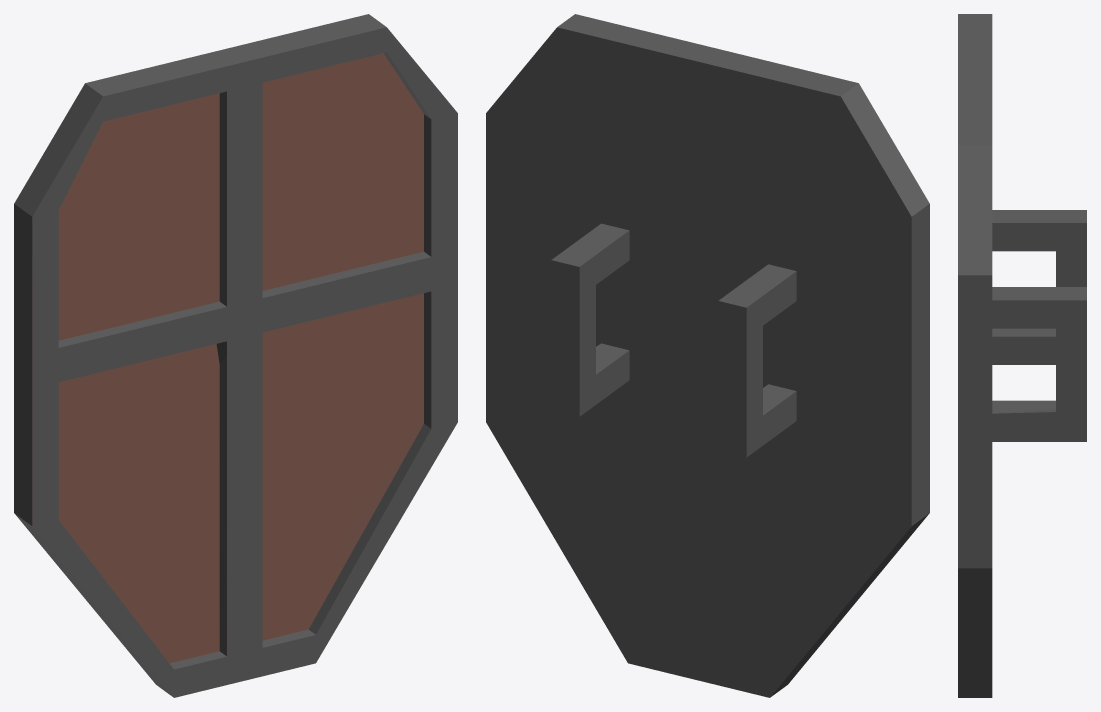
Rendered from MO_Shield.fbx.
3 renders of one model, left to right at view 1: azimuth 30°, elevation 25°; view 2: azimuth 150°, elevation 25°; view 3: azimuth 270°, elevation 25°, orthographic. The views are drawn at different scales.
Parts seen in each view (by area): view 1: Shield, Shield_cell.002, Shield_cell.003, Shield_cell, Shield_cell.001, Shield_cell.004; view 2: Shield, Shield_cell.004, Shield_cell.001, Shield_cell, Shield_cell.007, Shield_cell.003, Shield_cell.005, Shield_cell.002; view 3: Shield, Shield_cell.003, Shield_cell.007, Shield_cell.005, Shield_cell.001, Shield_cell.006, Shield_cell.004.
Part boxes in pixels (left/top/right/bottom): Shield: left=14, top=14, right=457, bottom=697; Shield_cell.002: left=80, top=407, right=429, bottom=674; Shield_cell.003: left=205, top=151, right=457, bottom=467; Shield_cell: left=14, top=506, right=266, bottom=697; Shield_cell.001: left=210, top=14, right=431, bottom=373; Shield_cell.004: left=15, top=44, right=256, bottom=490; Shield: left=486, top=37, right=929, bottom=697; Shield_cell.004: left=682, top=46, right=929, bottom=449; Shield_cell.001: left=486, top=14, right=706, bottom=288; Shield_cell: left=757, top=486, right=929, bottom=617; Shield_cell.007: left=718, top=264, right=796, bottom=457; Shield_cell.003: left=486, top=151, right=559, bottom=283; Shield_cell.005: left=551, top=260, right=579, bottom=332; Shield_cell.002: left=519, top=411, right=718, bottom=502; Shield: left=958, top=85, right=1086, bottom=697; Shield_cell.003: left=958, top=280, right=992, bottom=592; Shield_cell.007: left=992, top=210, right=1086, bottom=364; Shield_cell.005: left=992, top=300, right=1086, bottom=428; Shield_cell.001: left=958, top=86, right=992, bottom=303; Shield_cell.006: left=992, top=409, right=1086, bottom=441; Shield_cell.004: left=958, top=14, right=992, bottom=86.
Bounding box in the file's own units: 65.95 × 91.63 × 18.28.
